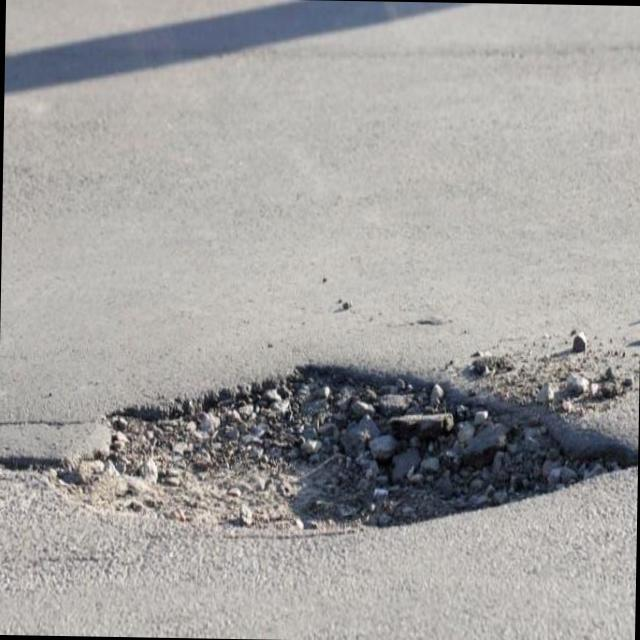Pothole: (28, 365, 618, 529)
